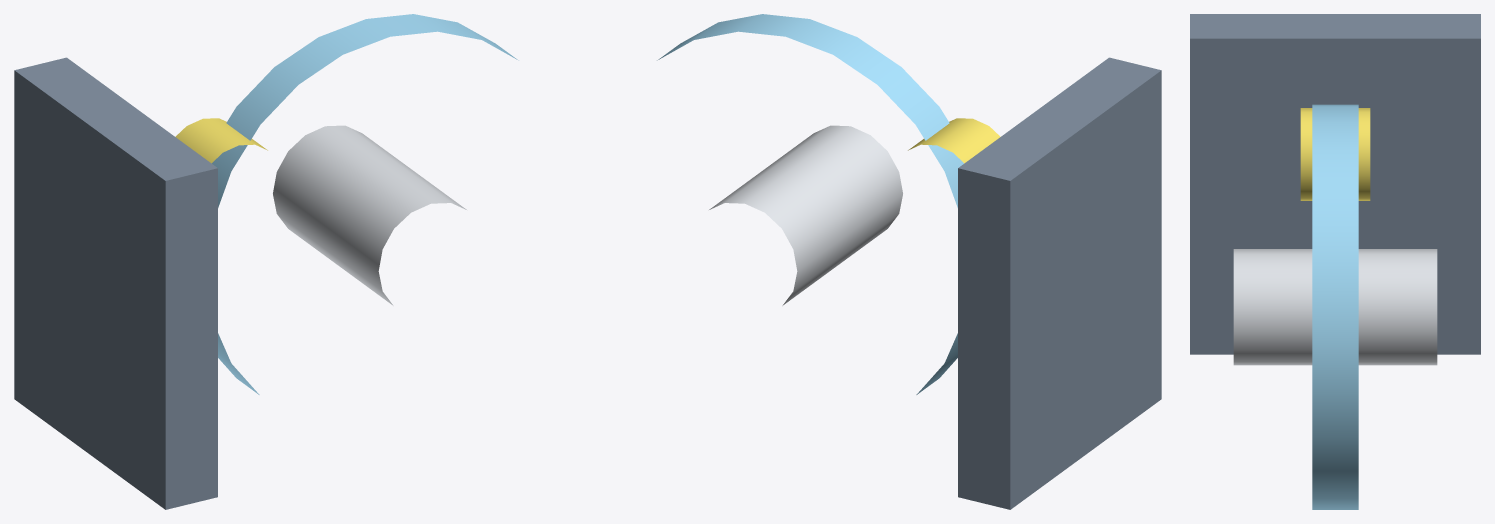
Rendered from single_purchase_crab_winch.glb.
3 renders of one model, left to right at view 1: azimuth 30°, elevation 25°; view 2: azimuth 150°, elevation 25°; view 3: azimuth 270°, elevation 25°, orthographic. The views are drawn at different scales.
Parts seen in each view (by area): view 1: CastIronSupportingSideFrames, LoadDrumWindingRopeAndWeight, LargeMainSpurGearWheelT2, EffortWheelHandleOperatingSpurPinion; view 2: CastIronSupportingSideFrames, LoadDrumWindingRopeAndWeight, LargeMainSpurGearWheelT2, EffortWheelHandleOperatingSpurPinion; view 3: CastIronSupportingSideFrames, LargeMainSpurGearWheelT2, LoadDrumWindingRopeAndWeight, EffortWheelHandleOperatingSpurPinion.
Part boxes in pixels (x1,y1,x2,y2): CastIronSupportingSideFrames: (14,57,217,509); LoadDrumWindingRopeAndWeight: (273,125,466,305); LargeMainSpurGearWheelT2: (212,14,518,394); EffortWheelHandleOperatingSpurPinion: (175,118,267,163); CastIronSupportingSideFrames: (958,57,1161,509); LoadDrumWindingRopeAndWeight: (709,125,902,305); LargeMainSpurGearWheelT2: (657,14,963,394); EffortWheelHandleOperatingSpurPinion: (908,118,1000,163); CastIronSupportingSideFrames: (1190,14,1480,354); LargeMainSpurGearWheelT2: (1312,104,1358,509); LoadDrumWindingRopeAndWeight: (1233,249,1437,365); EffortWheelHandleOperatingSpurPinion: (1300,108,1370,200).
Size of the model in its own units: 0.9 by 0.7 by 0.5.
